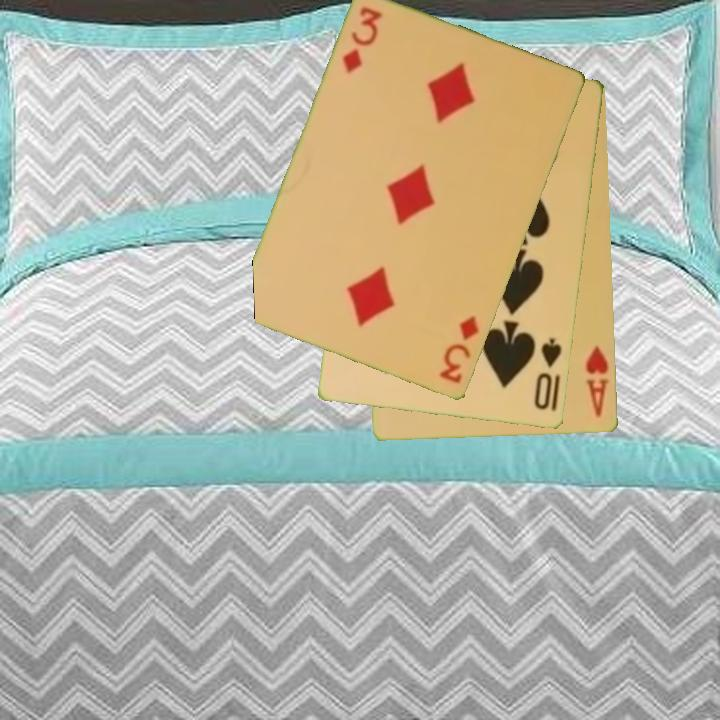10s: (531, 335, 565, 413)
3d: (339, 3, 386, 77), (436, 313, 482, 387)
Ah: (582, 342, 612, 420)
